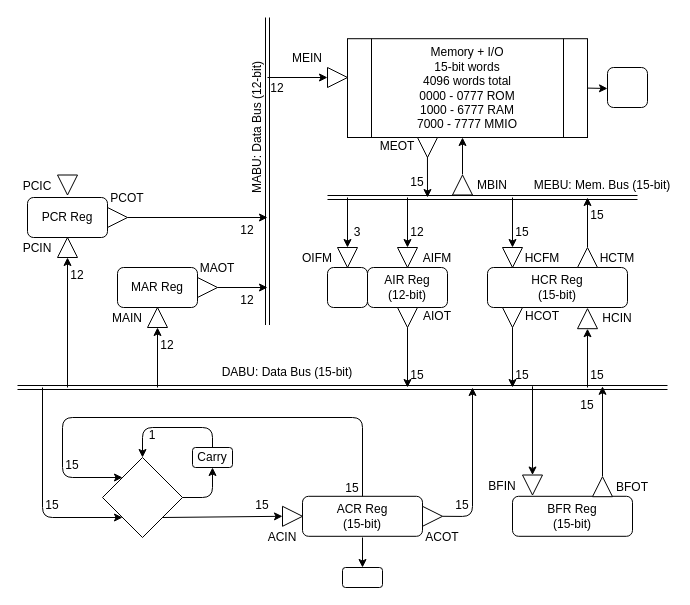
This 690x605 diagram has some shape labels left out. Here are the shapes that lost their labels. From the top down, the centre of each, then its label:
the point at 627,87: Mem Ready
the point at 347,287: OIR (3-bit)
the point at 142,497: ALU (15-bit)
the point at 362,577: Zero
